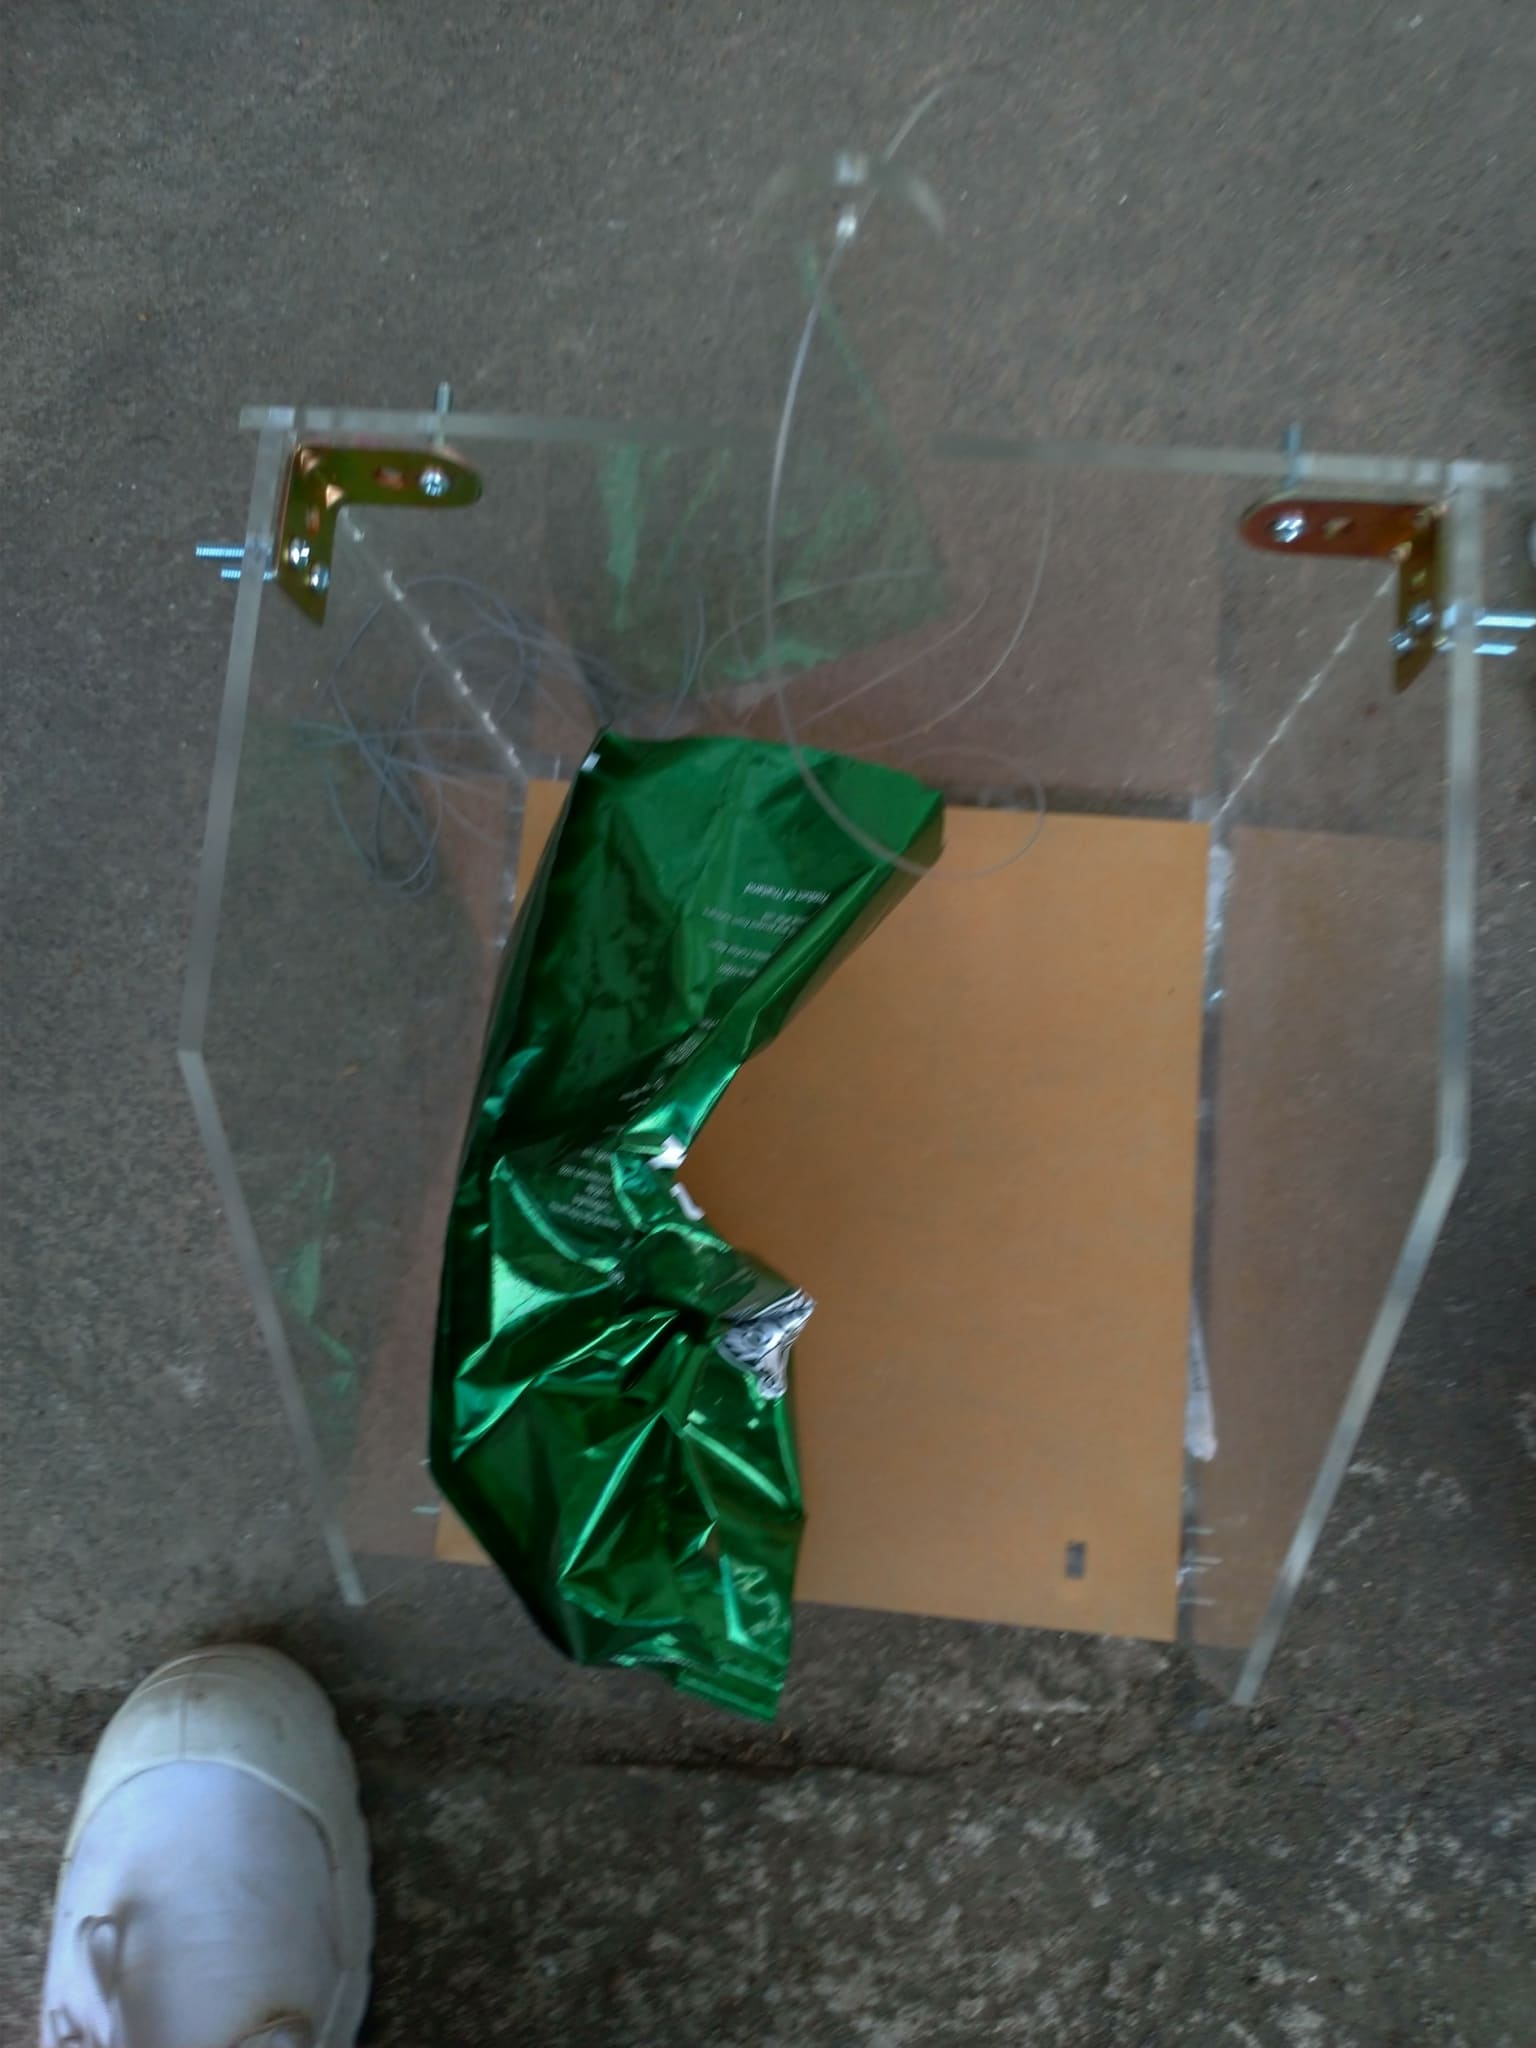Others: (424, 722, 954, 1698)
